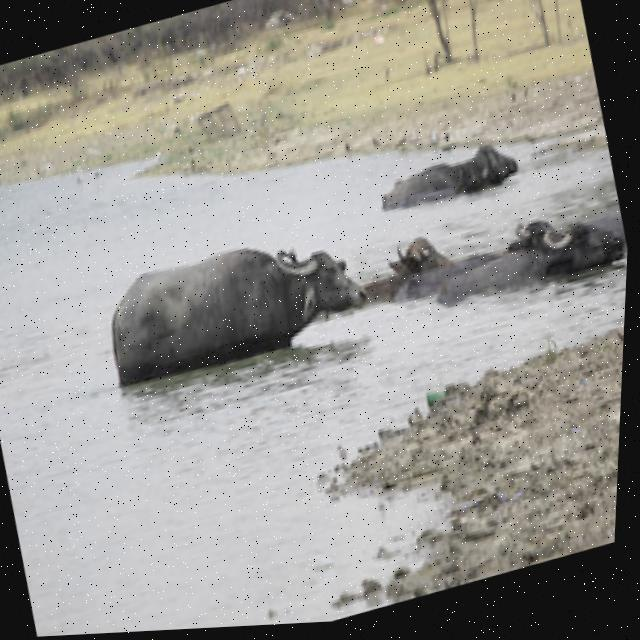Buffalo: (95, 208, 378, 395)
